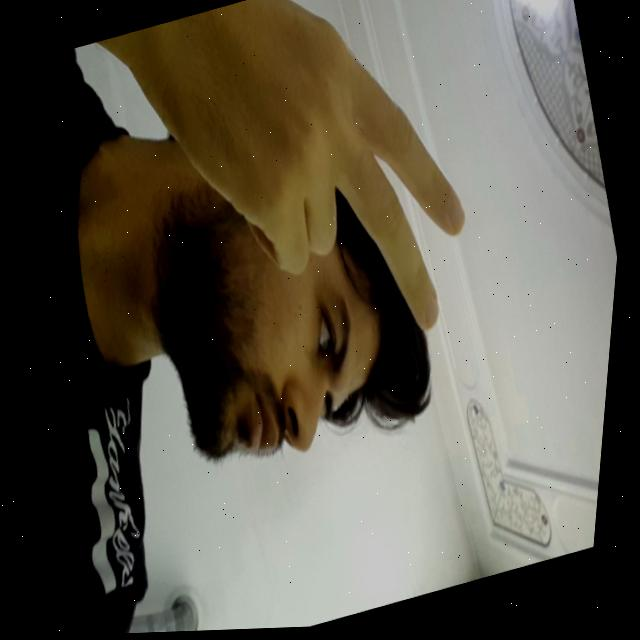Head: (99, 68, 472, 496)
Two: (56, 0, 511, 418)
